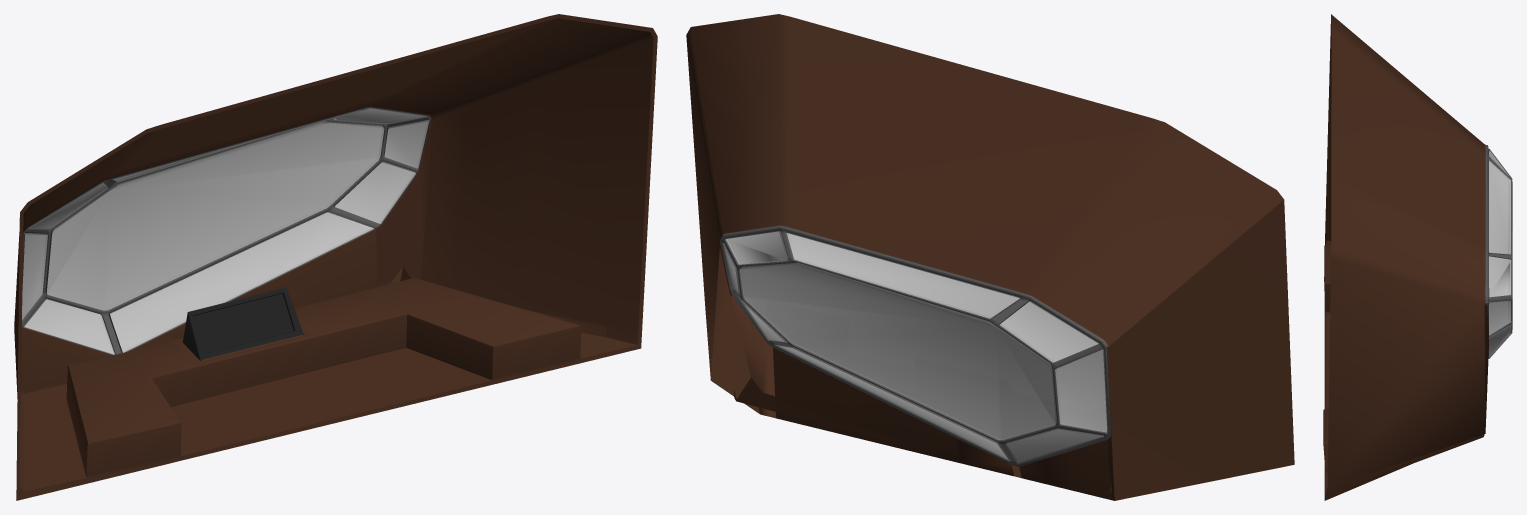
The model's file is CP_Screen_moved.fbx.
The picture shows the model from 3 angles, left to right: view 1: azimuth 30°, elevation 25°; view 2: azimuth 150°, elevation 25°; view 3: azimuth 270°, elevation 25°; orthographic projection. The views are drawn at different scales.
Visible parts, largest first — view 1: CP_Inside_hull; view 2: CP_Inside_hull; view 3: CP_Inside_hull.
Boxes of the visible parts, left/top/right/bottom form: CP_Inside_hull: left=14, top=14, right=657, bottom=500; CP_Inside_hull: left=686, top=14, right=1294, bottom=500; CP_Inside_hull: left=1323, top=14, right=1512, bottom=500.
Size of the model in its own units: 432 by 224 by 133.
